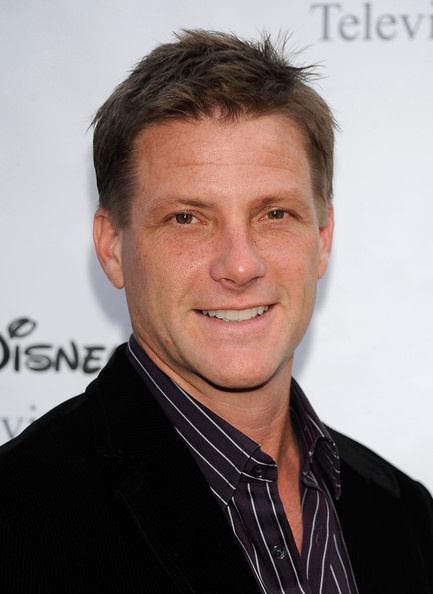bad: (117, 167, 340, 390)
